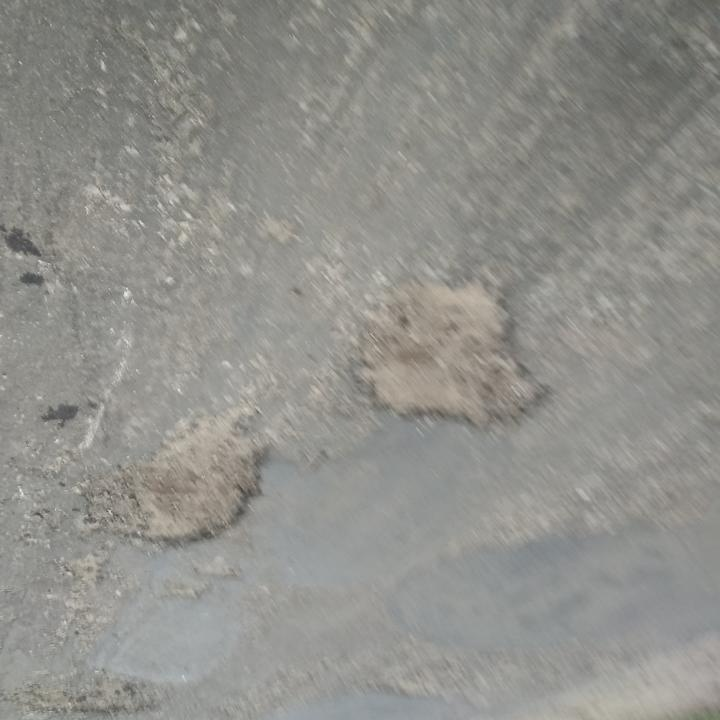pothole: (341, 271, 560, 439), (98, 400, 276, 552), (15, 672, 169, 719)
